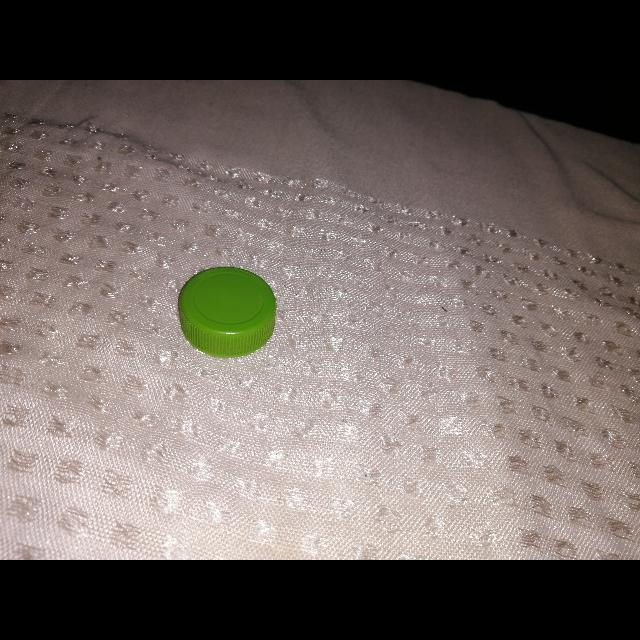plastic_bottle_cap: (178, 266, 276, 358)
